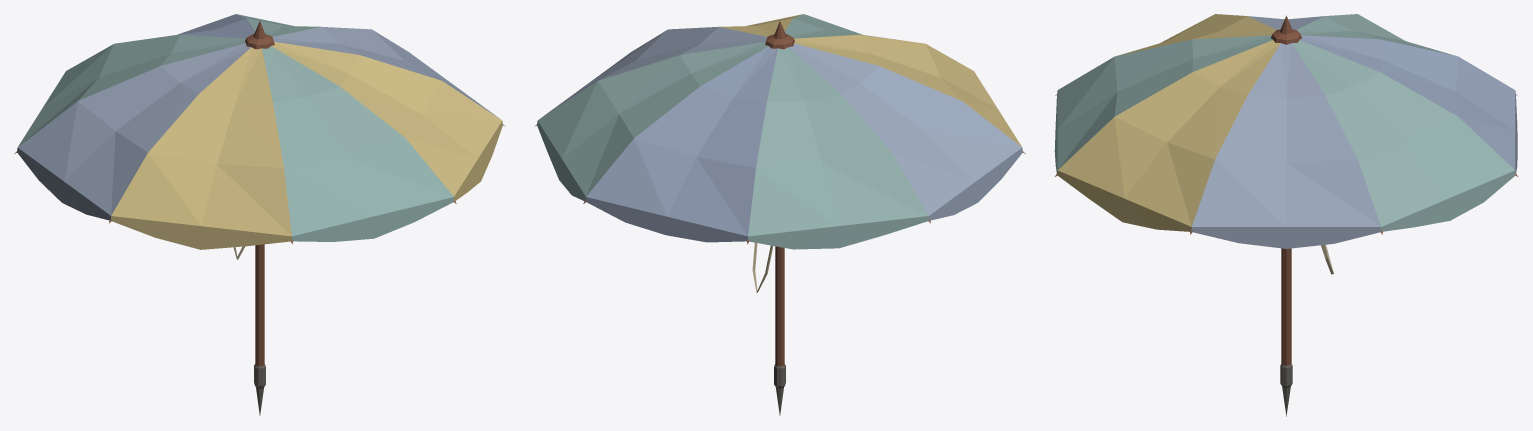
Rendered from beach-parasol-fd4530.glb.
3 renders of one model, left to right at view 1: azimuth 30°, elevation 25°; view 2: azimuth 150°, elevation 25°; view 3: azimuth 270°, elevation 25°, orthographic.
Parts seen in each view (by area): view 1: beach-parasol-fd4530; view 2: beach-parasol-fd4530; view 3: beach-parasol-fd4530.
Part boxes in pixels (x1,y1,x2,y2): beach-parasol-fd4530: (14, 14, 505, 415); beach-parasol-fd4530: (534, 14, 1025, 415); beach-parasol-fd4530: (1054, 14, 1517, 416).
Size of the model in its own units: 2.2 by 2.1 by 2.2.
